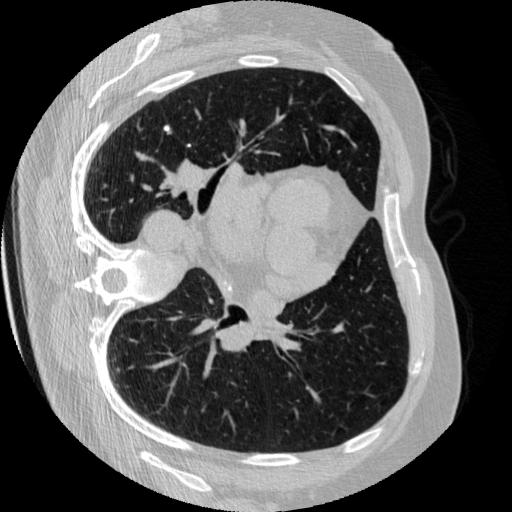nodule: (160, 124, 175, 139)
